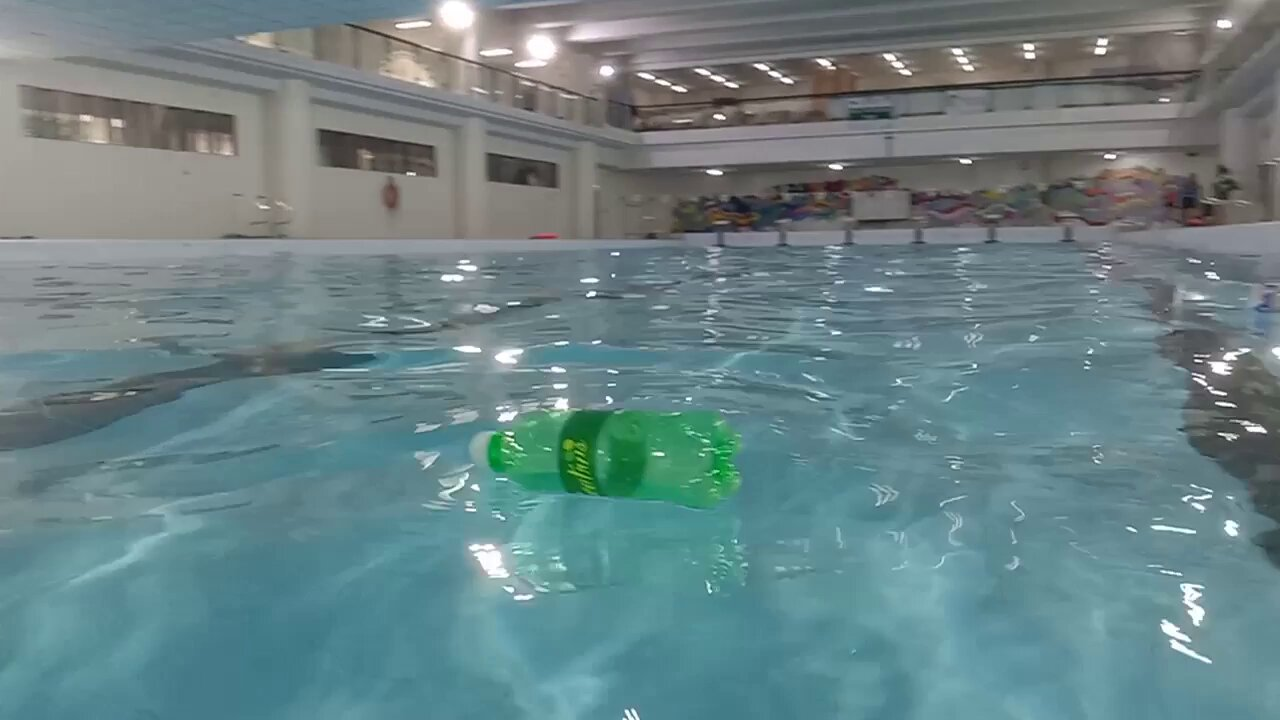plastic_bottle: (470, 411, 742, 498)
